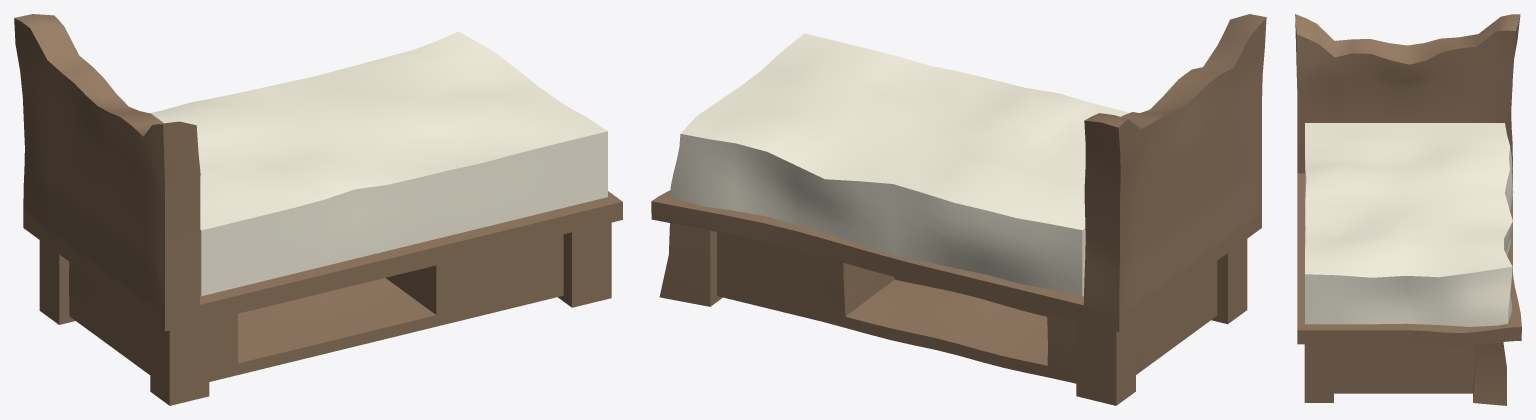
Rendered from SM_bed.fbx.
The picture shows the model from 3 angles, left to right: view 1: azimuth 30°, elevation 25°; view 2: azimuth 150°, elevation 25°; view 3: azimuth 270°, elevation 25°; orthographic projection. The views are drawn at different scales.
Parts seen in each view (by area): view 1: 立方体_9_4, 立方体_1_7, 立方体_4_4, 立方体_3_7; view 2: 立方体_9_4, 立方体_1_7, 立方体_4_4, 立方体_3_7; view 3: 立方体_9_4, 立方体_1_7, 立方体_4_4, 立方体_3_7.
Boxes of the visible parts, <box> form: 立方体_9_4: <box>150,31,607,296</box>; 立方体_1_7: <box>14,14,622,331</box>; 立方体_4_4: <box>69,234,563,381</box>; 立方体_3_7: <box>39,222,611,405</box>; 立方体_9_4: <box>670,33,1129,296</box>; 立方体_1_7: <box>651,14,1266,332</box>; 立方体_4_4: <box>717,232,1217,383</box>; 立方体_3_7: <box>659,223,1247,405</box>; 立方体_9_4: <box>1305,123,1513,326</box>; 立方体_1_7: <box>1295,14,1521,345</box>; 立方体_4_4: <box>1334,344,1474,393</box>; 立方体_3_7: <box>1304,342,1506,405</box>.
Bounding box in the file's own units: 530 × 315 × 295.
